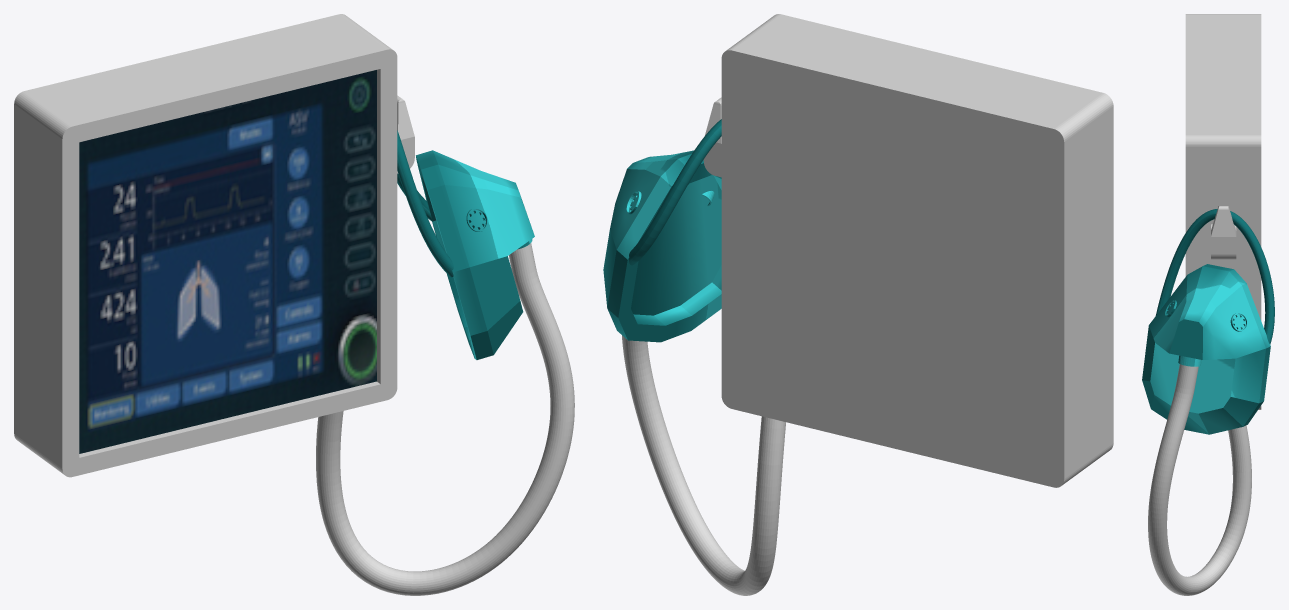
File: wall_oxygen.glb
The picture shows the model from 3 angles, left to right: view 1: azimuth 30°, elevation 25°; view 2: azimuth 150°, elevation 25°; view 3: azimuth 270°, elevation 25°; orthographic projection. The views are drawn at different scales.
Visible parts, largest first — view 1: monitor, Tablet, Cylinder.007, Cylinder.001, Cylinder.006; view 2: Tablet, Cylinder.001, Cylinder.007, Cylinder.006; view 3: Tablet, Cylinder.001, Cylinder.007, Cylinder.006.
Part boxes in pixels (x1=…): monitor: x1=79, y1=70, x2=376, y2=453; Tablet: x1=14, y1=14, x2=414, y2=477; Cylinder.007: x1=316, y1=243, x2=574, y2=595; Cylinder.001: x1=416, y1=150, x2=534, y2=359; Cylinder.006: x1=397, y1=130, x2=453, y2=277; Tablet: x1=703, y1=14, x2=1113, y2=487; Cylinder.001: x1=603, y1=150, x2=721, y2=342; Cylinder.007: x1=622, y1=335, x2=785, y2=595; Cylinder.006: x1=629, y1=119, x2=721, y2=265; Tablet: x1=1185, y1=14, x2=1261, y2=409; Cylinder.001: x1=1142, y1=264, x2=1270, y2=434; Cylinder.007: x1=1148, y1=364, x2=1251, y2=595; Cylinder.006: x1=1155, y1=209, x2=1274, y2=344.
Bounding box in the file's own units: 2.95 × 3.21 × 0.879.
3 materials, 2 textured.
